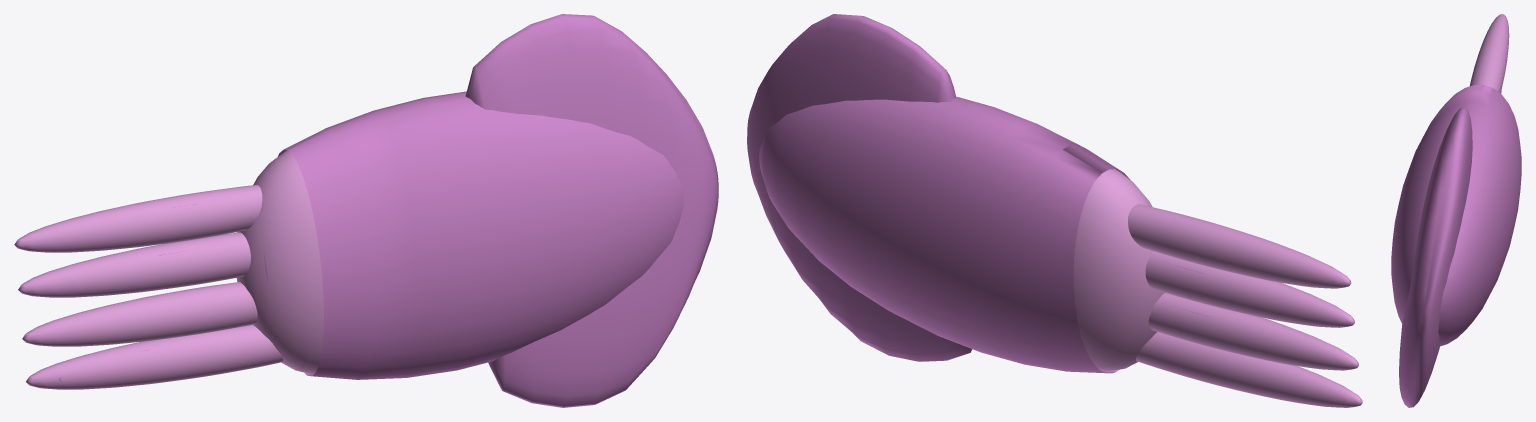
File: squid.gltf
The picture shows the model from 3 angles, left to right: view 1: azimuth 30°, elevation 25°; view 2: azimuth 150°, elevation 25°; view 3: azimuth 270°, elevation 25°; orthographic projection. The views are drawn at different scales.
Visible parts, largest first — view 1: Sphere, Sphere.002, Sphere.001, tantacle4, tantacle1, tatacle2, tantacle3; view 2: Sphere, Sphere.002, Sphere.001, tantacle4, tatacle2, tantacle1, tantacle3; view 3: Sphere, Sphere.002, tantacle4.
Part boxes in pixels (left/top/right/bottom): Sphere: left=278, top=91, right=683, bottom=379; Sphere.002: left=465, top=14, right=718, bottom=407; Sphere.001: left=236, top=150, right=323, bottom=374; tantacle4: left=14, top=185, right=262, bottom=252; tantacle1: left=26, top=325, right=283, bottom=389; tatacle2: left=22, top=282, right=257, bottom=346; tantacle3: left=18, top=232, right=250, bottom=297; Sphere: left=759, top=96, right=1129, bottom=373; Sphere.002: left=747, top=14, right=972, bottom=361; Sphere.001: left=1073, top=169, right=1164, bottom=370; tantacle4: left=1128, top=204, right=1351, bottom=288; tatacle2: left=1148, top=293, right=1359, bottom=370; tantacle1: left=1136, top=332, right=1362, bottom=407; tantacle3: left=1145, top=251, right=1354, bottom=327; Sphere: left=1391, top=85, right=1521, bottom=346; Sphere.002: left=1399, top=107, right=1472, bottom=407; tantacle4: left=1470, top=14, right=1509, bottom=93.
Bounding box in the file's own units: 2.71 × 1.45 × 0.5986.
Materials: 1 (1 with a texture image).
